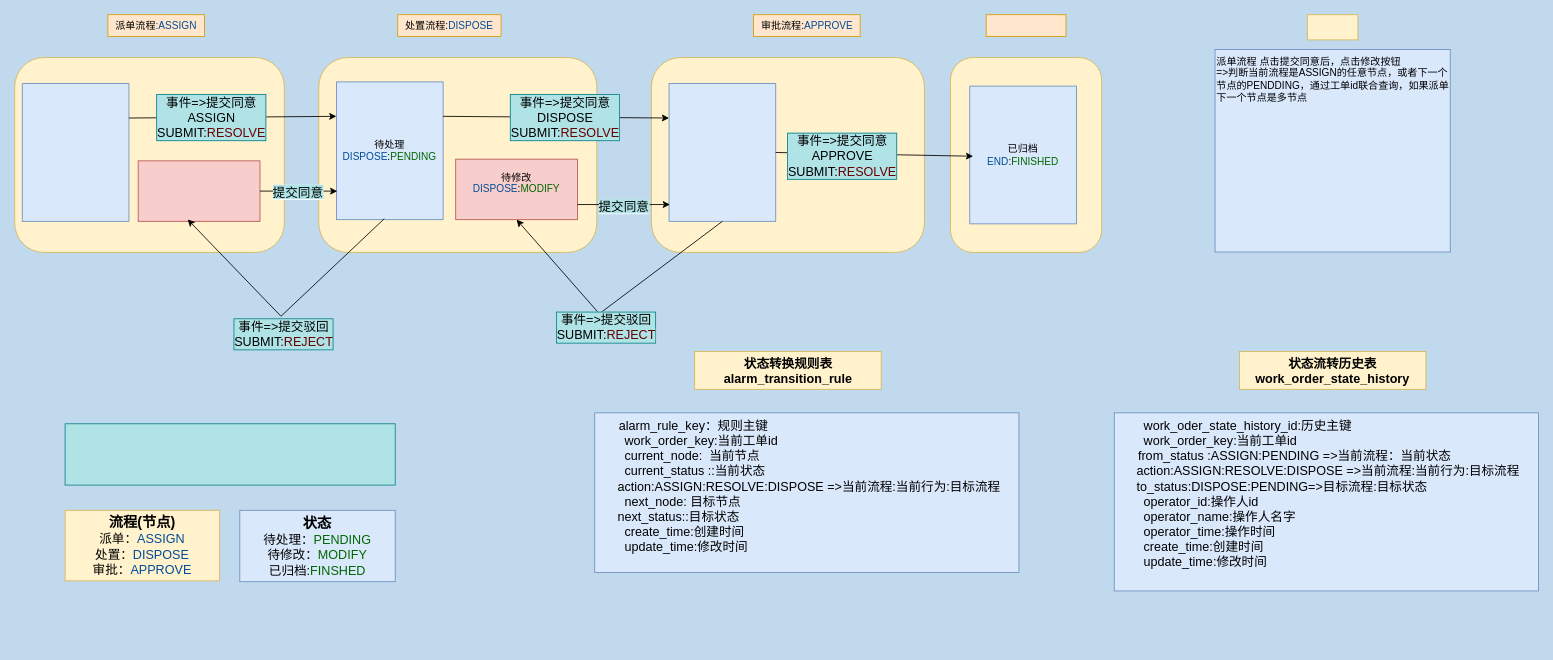
The diagram is 1553 pixels wide and 660 high, and some of its shapes have lost their labels. The centre of each missing label's shape, as x and y in pixels:
"归档流程: END" belongs at (1025,25).
"待修改 ASSIGN : MODIFY" belongs at (198,190).
"待处理 APPROVE : PENDING" belongs at (722,152).
"待处理 ASSIGN : PENDING" belongs at (75,152).
"用户操作" belongs at (1332,27).
"行为 提交同意: RESOLVE 提交驳回: REJECT" belongs at (229,454).
